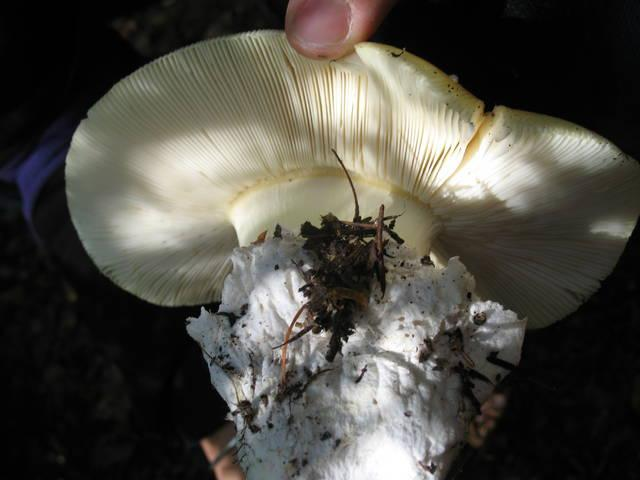Edible Mushroom: (62, 27, 638, 331)
